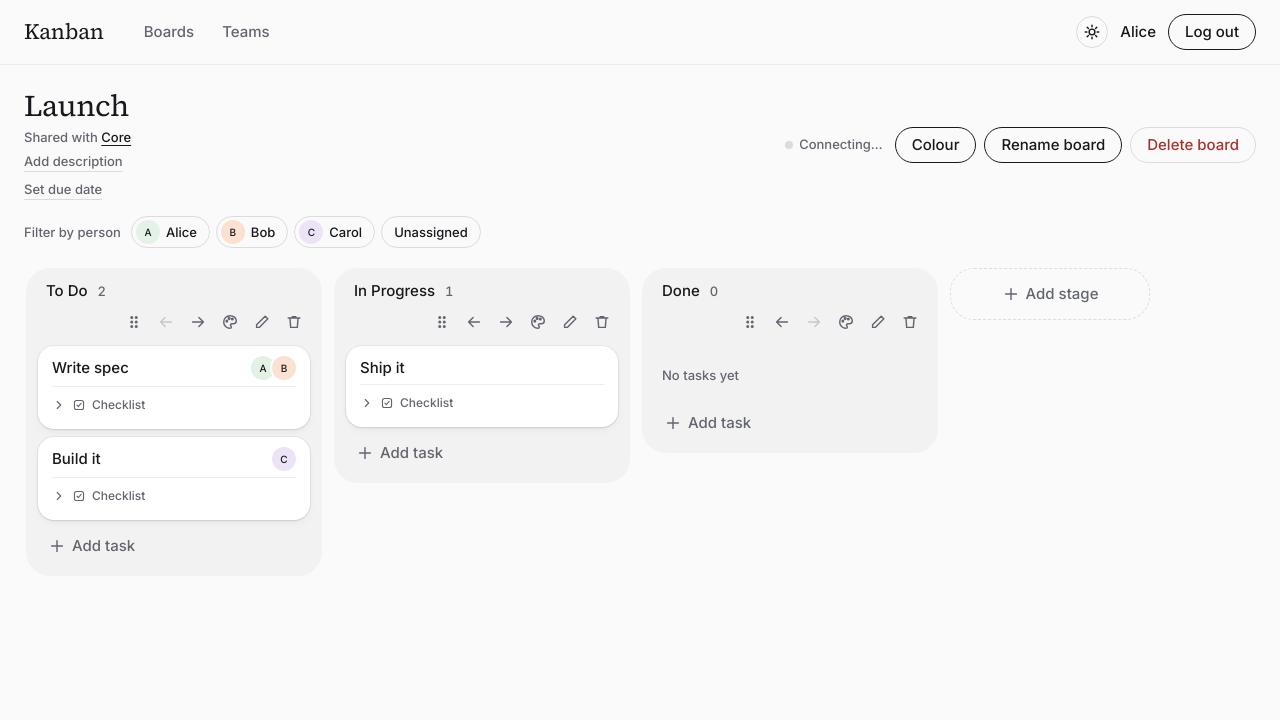
Test: assigning in the task dialog › keeps the dialog open if assigning fails
Expected: the heading "Launch" is shown, [24,85,129,126]
Click the button with aria-label "open task ship it" at (382, 367), box [360,358,405,377]
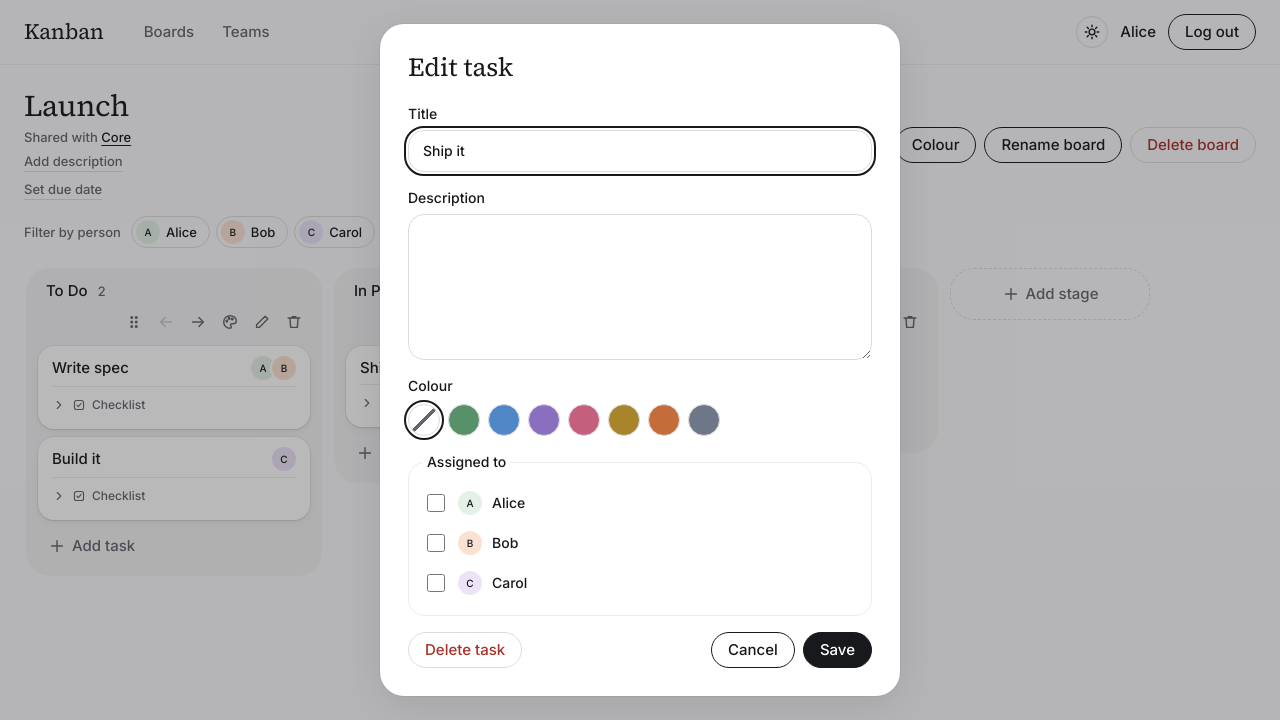
Click the checkbox labelled "Bob" at (436, 543), box [427,534,445,552]
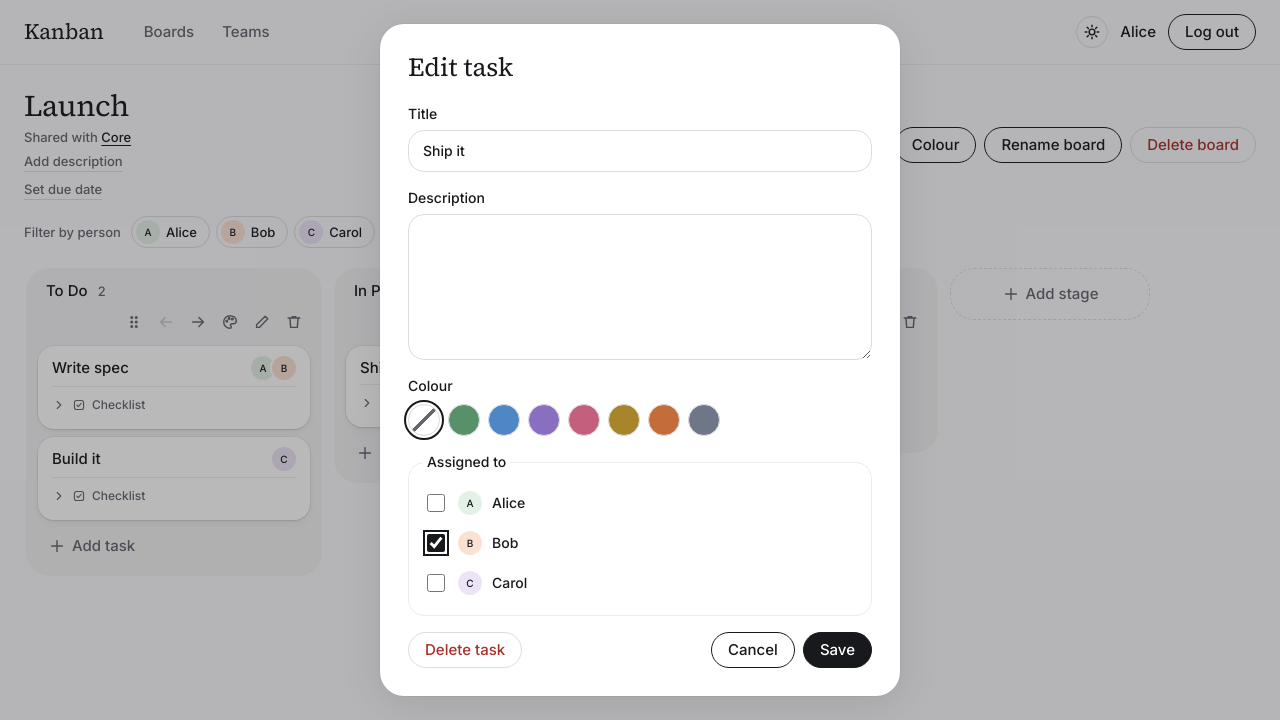
Click the button "Save" at (837, 650), box [803,632,872,668]
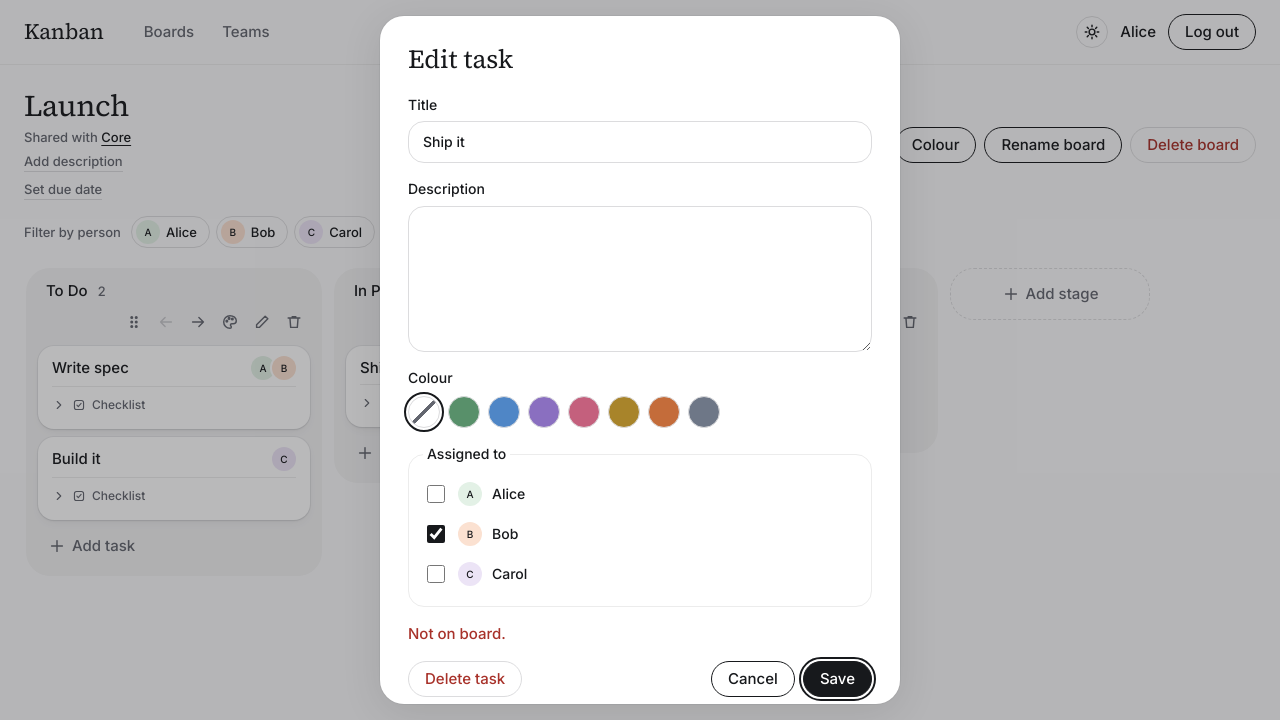
Expected: the dialog is shown, [380,16,900,704]
Expected: the message reads "Not on board.", [408,624,506,643]
